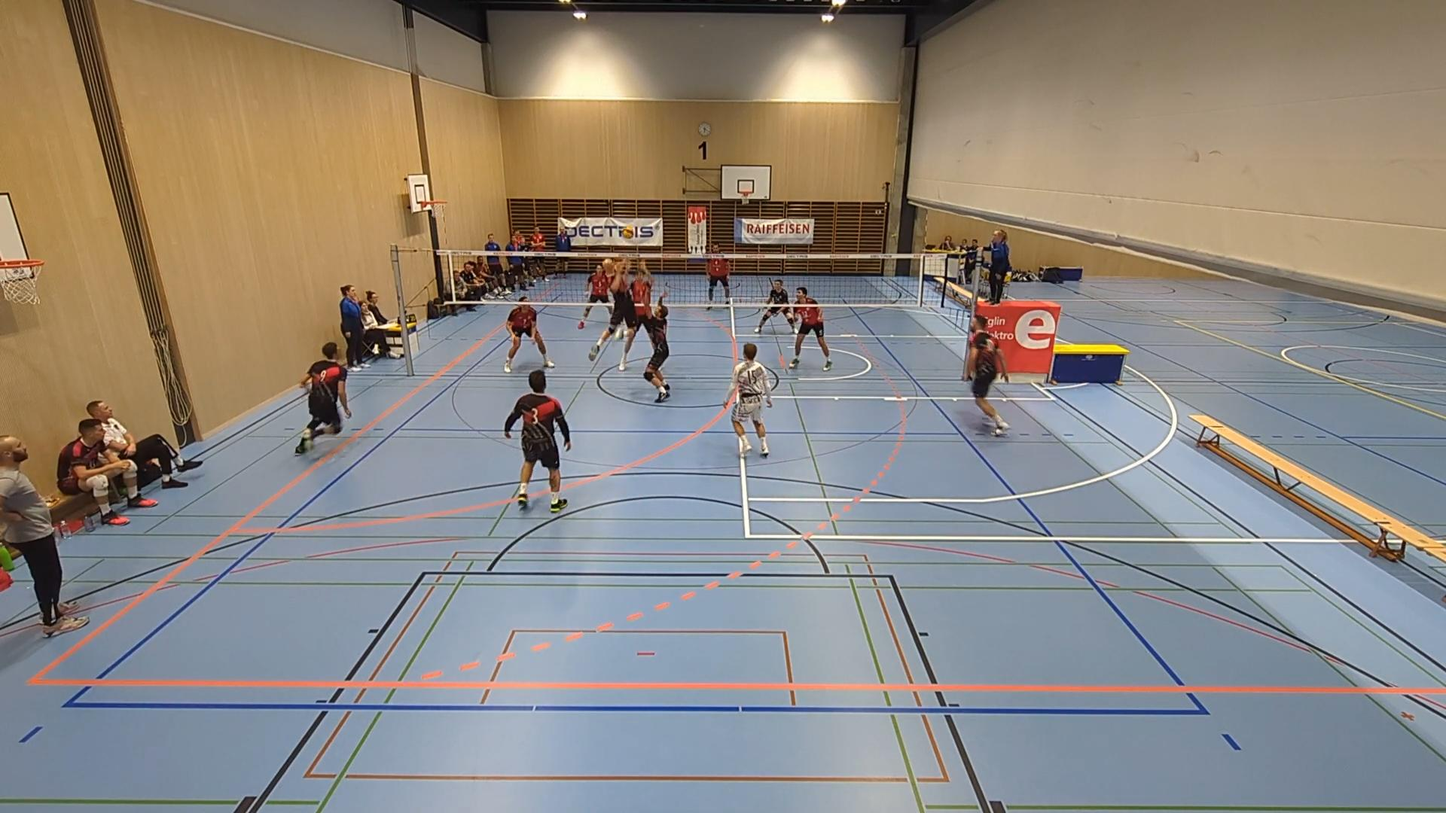Attack: (599, 255, 644, 355)
Player: (504, 370, 569, 512), (295, 343, 351, 454), (730, 343, 772, 457), (965, 331, 1008, 434), (504, 296, 554, 373), (789, 287, 831, 371), (578, 263, 612, 329), (754, 279, 795, 333), (630, 260, 652, 324), (707, 257, 730, 308), (966, 313, 987, 361)
Set: (637, 285, 679, 402)
